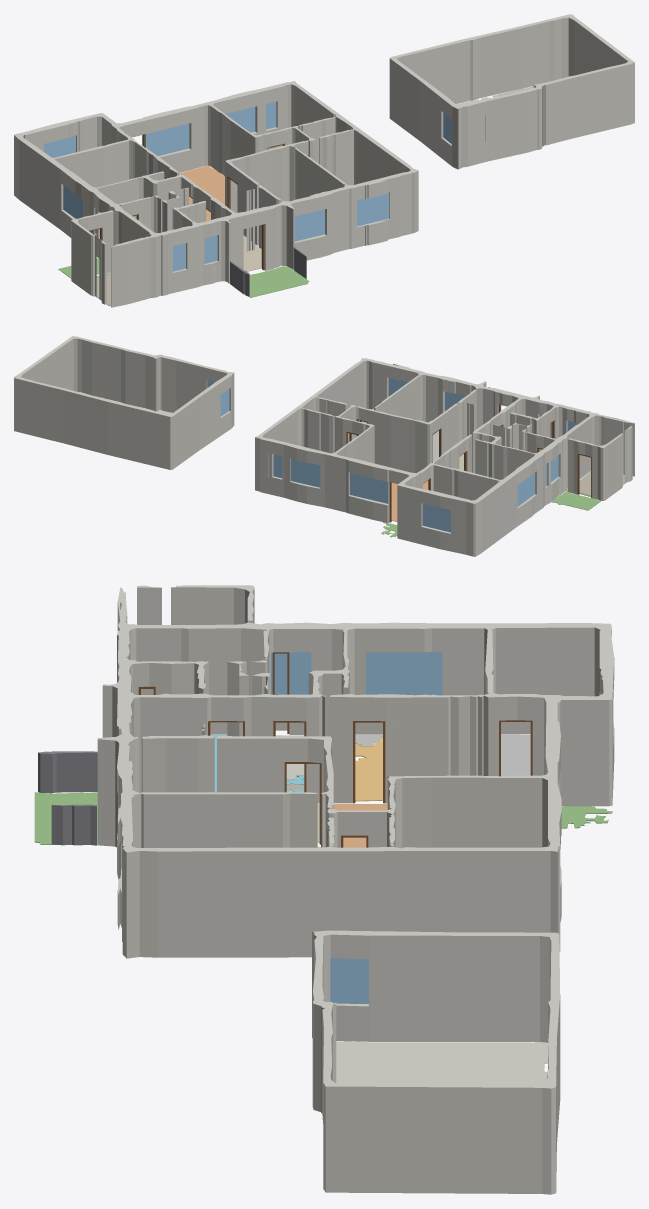
3 views of the same model, one above another, from view 1: azimuth 30°, elevation 25°; view 2: azimuth 150°, elevation 25°; view 3: azimuth 270°, elevation 25° (orthographic). The views are drawn at different scales.
Visible parts, largest first — view 1: walls, floor_0_Outdoor, window_17, floor_4_Living_Room, window_26, railings, window_25, window_15, window_20, floor_11_Entry, window_16; view 2: walls, window_17, window_16, window_15, floor_1_Outdoor, window_20; view 3: walls, floor_22_Undefined, railings, window_20, window_21, floor_3_Kitchen, window_24, floor_0_Outdoor, floor_8_Bed_Room.
Boxes of the visible parts, <box> form: walls: <box>14,14,634,307</box>; floor_0_Outdoor: <box>249,266,309,297</box>; window_17: <box>146,123,189,155</box>; floor_4_Living_Room: <box>164,166,224,221</box>; window_26: <box>357,192,388,226</box>; railings: <box>230,247,306,296</box>; window_25: <box>294,209,324,241</box>; window_15: <box>44,136,75,157</box>; window_20: <box>63,185,82,218</box>; floor_11_Entry: <box>243,236,261,271</box>; window_16: <box>225,107,255,132</box>; walls: <box>14,336,634,556</box>; window_17: <box>350,472,388,503</box>; window_16: <box>290,458,320,487</box>; window_15: <box>422,503,450,532</box>; floor_1_Outdoor: <box>552,490,600,510</box>; window_20: <box>517,473,534,506</box>; walls: <box>97,585,614,1194</box>; floor_22_Undefined: <box>336,1041,547,1084</box>; railings: <box>38,751,97,845</box>; window_20: <box>366,651,442,695</box>; window_21: <box>330,958,368,1003</box>; floor_3_Kitchen: <box>355,737,382,801</box>; window_24: <box>271,652,311,695</box>; floor_0_Outdoor: <box>34,792,97,844</box>; floor_8_Bed_Room: <box>501,734,530,776</box>.
Bounding box in the file's own units: 27.45 × 2.72 × 13.35.
